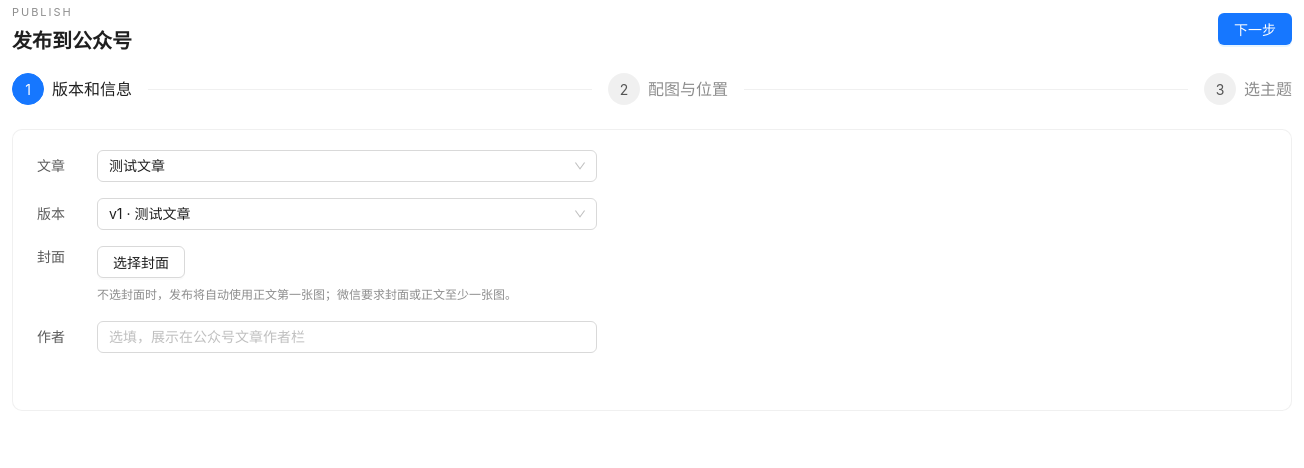
Test: PublishPage 三步向导 › 步骤 2 画布：未设锚点时「插入配图」禁用，点击块显示锚点提示，再点同块取消
The image size is (1304, 468).
Expected: the heading "发布到公众号" is shown, [12,26,132,57]
Click the button "下一步": click(1255, 29) [1218,13,1292,45]
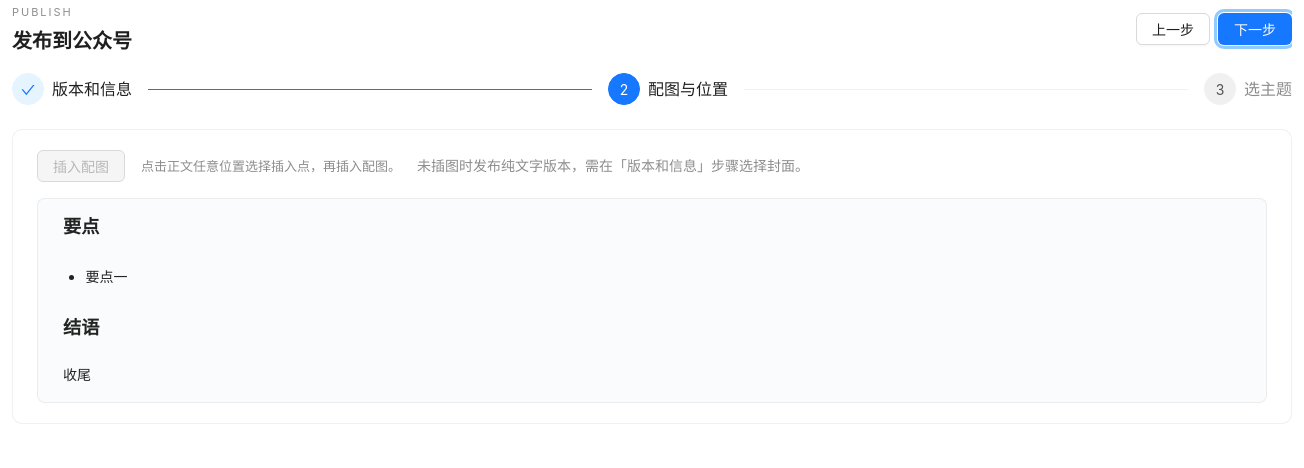
Now the element named "正文画布" is shown, box [37,198,1267,403]
Now the button "插入配图" is disabled, box [37,150,125,182]
Now the text "点击正文任意位置选择插入点，再插入配图。" is shown, box [141,156,401,177]
点击块 2：显示插入指示线与锚点提示
Click the element showing "要点一": click(106, 277) [85,268,127,285]
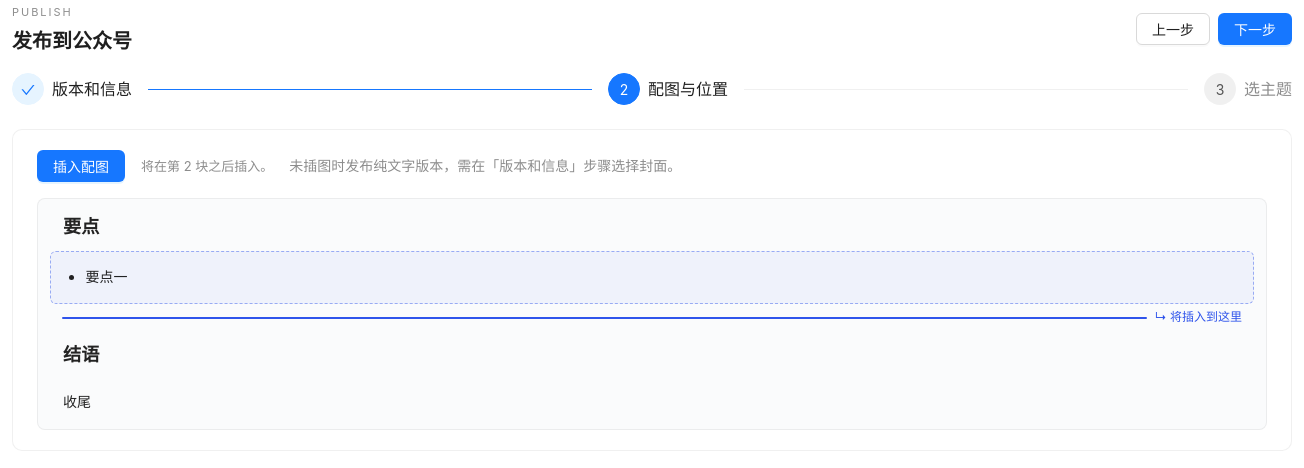
Now the text "↳ 将插入到这里" is shown, box [1155,309,1242,324]
Now the text "将在第 2 块之后插入。" is shown, box [141,156,273,177]
Now the button "插入配图" is enabled, box [37,150,125,182]
再点同块：取消锚点
Click the element showing "要点一": click(652, 278) [50,251,1254,304]
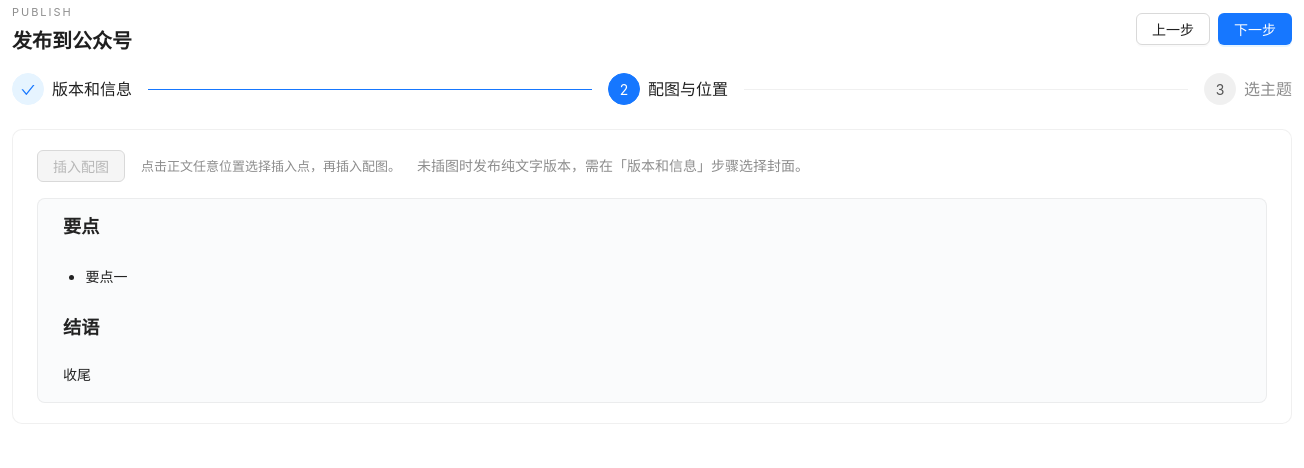
Now the button "插入配图" is disabled, box [37,150,125,182]
